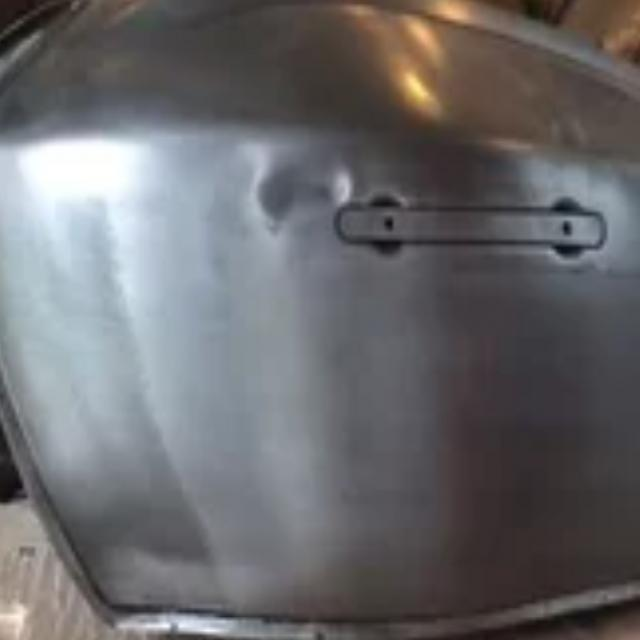dents: (244, 154, 356, 245)
